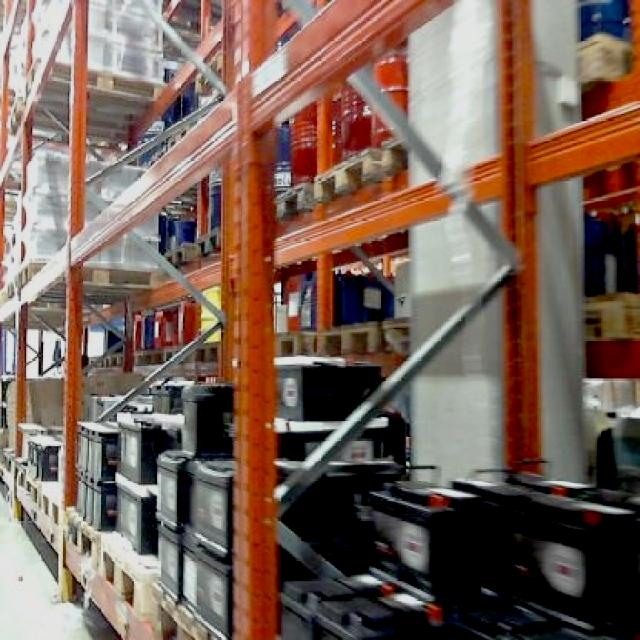pallets: (452, 477, 634, 618), (366, 480, 483, 589)
